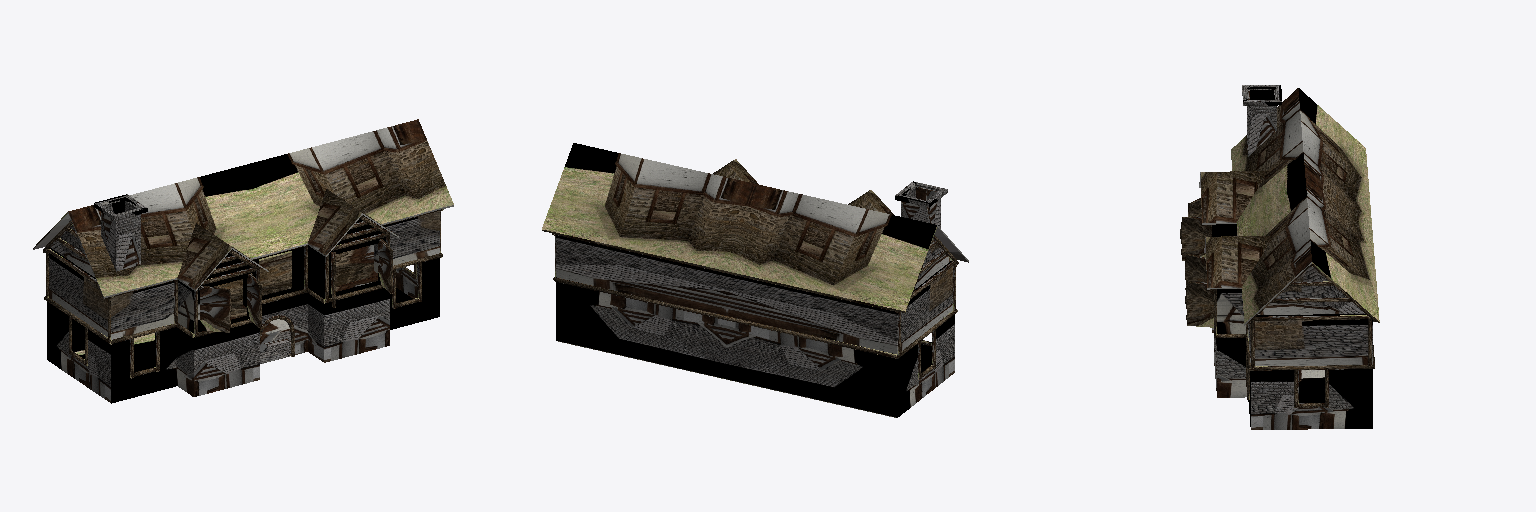
3 renders of one model, left to right at view 1: azimuth 30°, elevation 25°; view 2: azimuth 150°, elevation 25°; view 3: azimuth 270°, elevation 25°, orthographic.
Visible parts, largest first — view 1: Cube_003; view 2: Cube_003; view 3: Cube_003.
Part boxes in pixels (left/top/right/bottom): Cube_003: left=33, top=119, right=453, bottom=403; Cube_003: left=542, top=143, right=968, bottom=417; Cube_003: left=1180, top=85, right=1379, bottom=429.
Size of the model in its own units: 238 by 116 by 114.
2 materials, 2 textured.